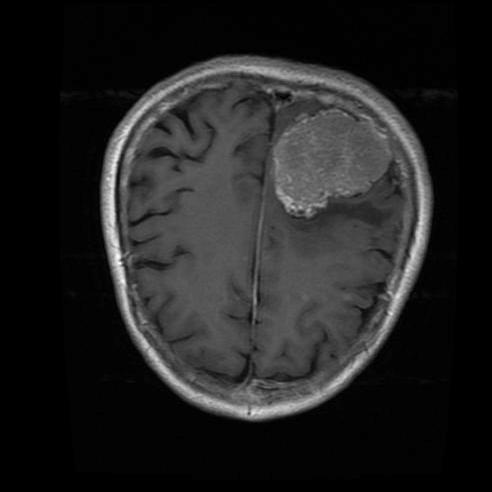Tumour-Meningioma: (250, 105, 400, 217)
